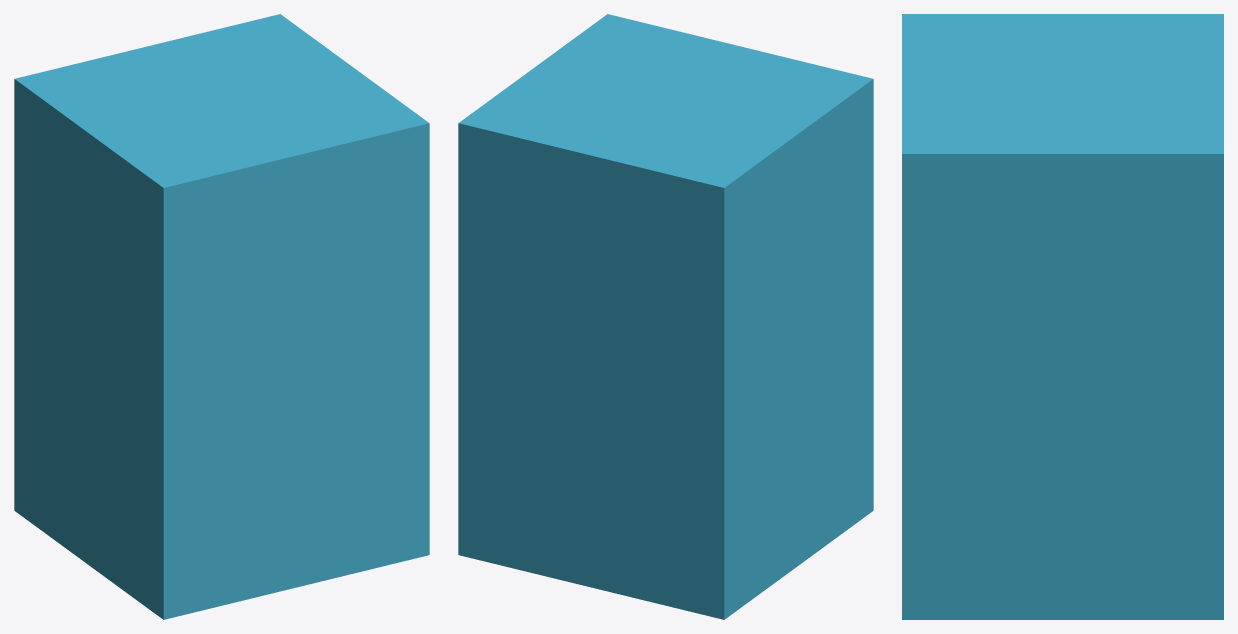
The model's file is Itr_Obj_Smallstickynote_Box_04.FBX.
3 views of the same model, side by side, from view 1: azimuth 30°, elevation 25°; view 2: azimuth 150°, elevation 25°; view 3: azimuth 270°, elevation 25° (orthographic). The views are drawn at different scales.
Visible parts, largest first — view 1: Itr_Obj_Smallstickynote_Box_04; view 2: Itr_Obj_Smallstickynote_Box_04; view 3: Itr_Obj_Smallstickynote_Box_04.
Part boxes in pixels (x1,y1,x2,y2): Itr_Obj_Smallstickynote_Box_04: (14,14,429,619); Itr_Obj_Smallstickynote_Box_04: (458,14,873,619); Itr_Obj_Smallstickynote_Box_04: (902,14,1223,619).
Bounding box in the file's own units: 0.8876 × 1.38 × 0.8625.
